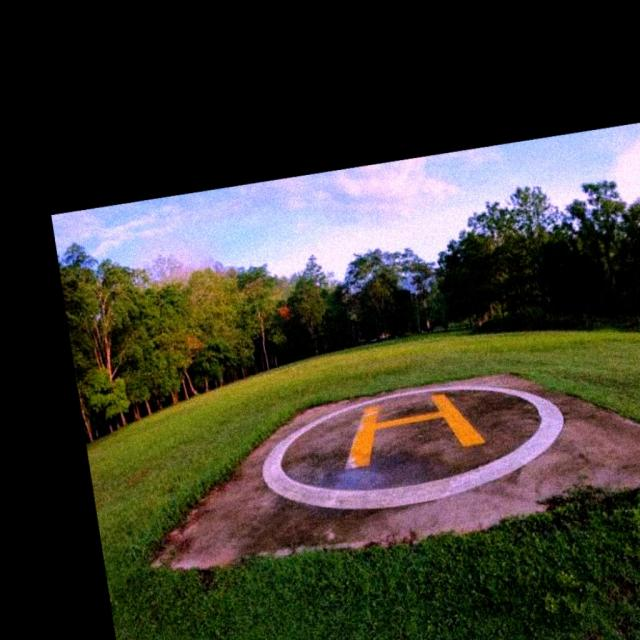helipad: (256, 380, 568, 517)
